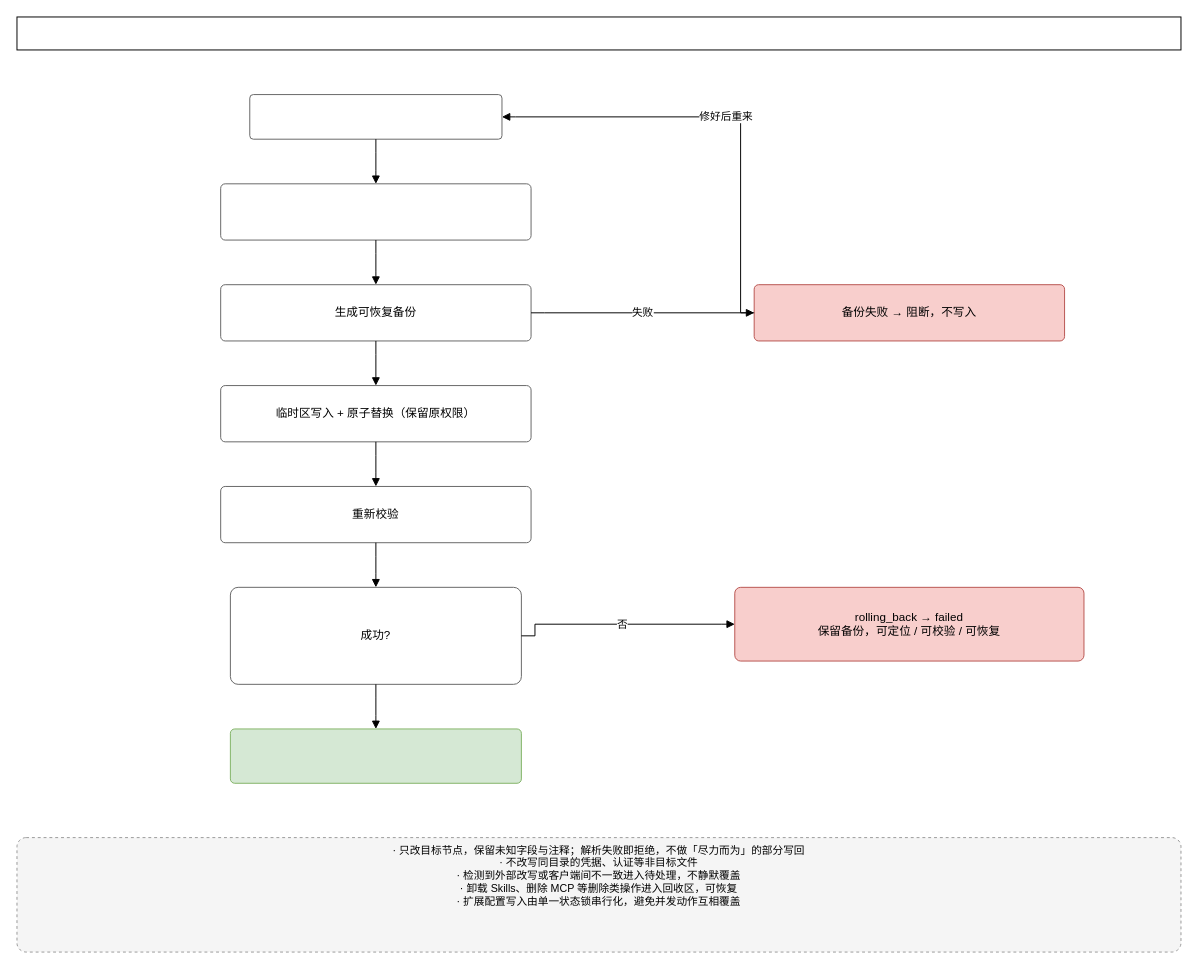
Some shapes in this 1198 by 969 pixel diagram are drawn without their labels. The shapes that lost their labels are listed below. From the top down, each one's centre as x and y in pixels, then its label:
[598,33]: 流程 04｜受控写入（扩展配置：Skills / MCP）
[375,116]: 用户动作（扩展管理 / 迁移 / 同步）
[375,211]: 前置校验：目标为普通文件、合法路径、 冲突比对、跨进程文件锁
[375,755]: succeeded
